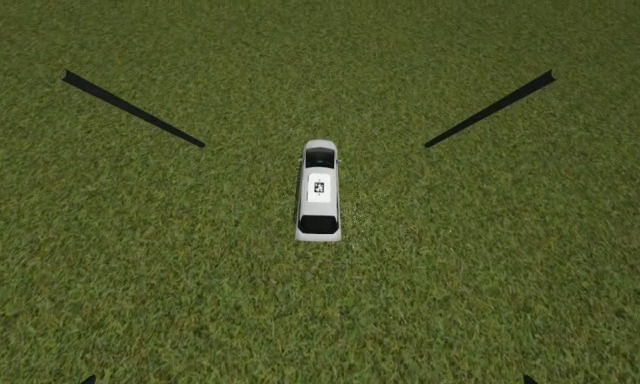Car: (297, 141, 344, 244)
Landing Pad: (308, 173, 331, 203)
